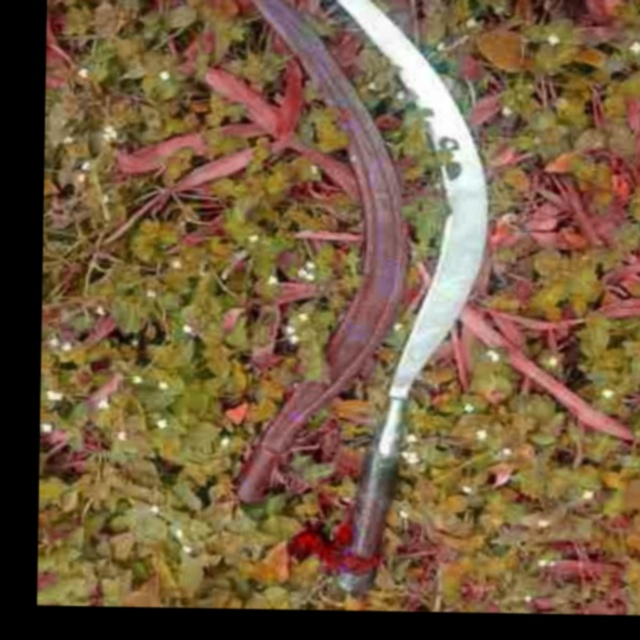Sharp-Object: (246, 0, 499, 612)
